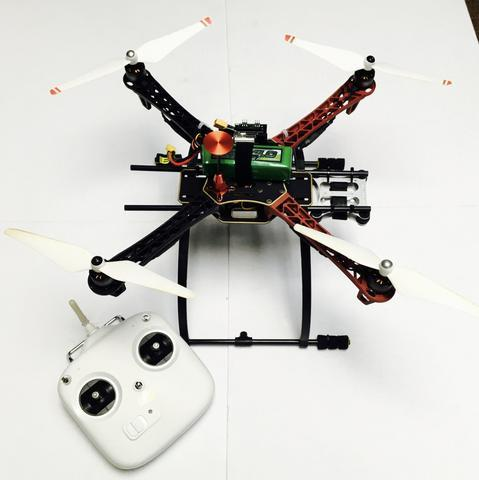drone: (8, 31, 479, 355)
